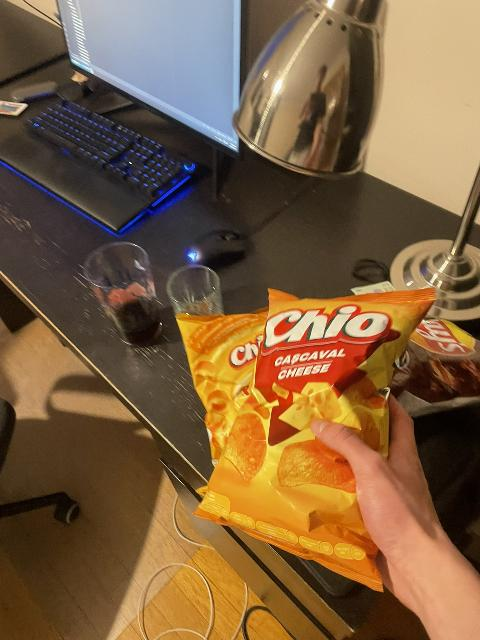Chio Cascaval 125g: (183, 289, 438, 586)
Chio Hula Hoops Cheese 70g: (175, 306, 269, 456)
Lays Beef Grilled Ribs 125g: (389, 317, 479, 406)
